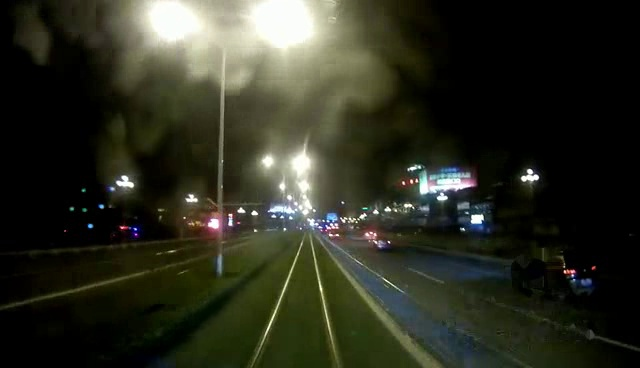car: (370, 233, 401, 252)
